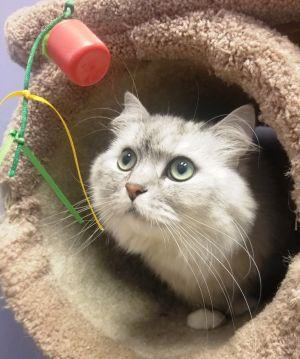persian: (80, 88, 262, 267)
